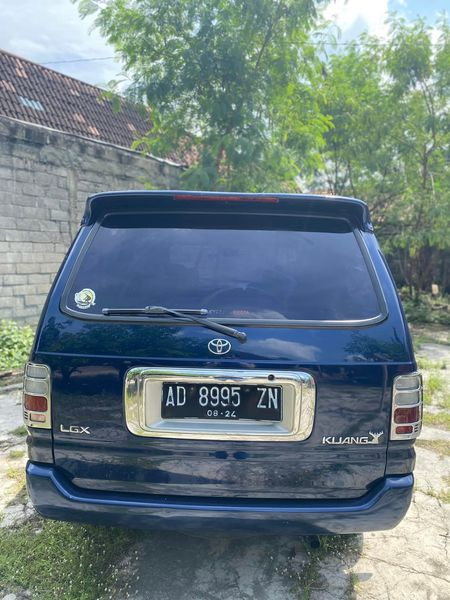plate: (160, 376, 282, 427)
